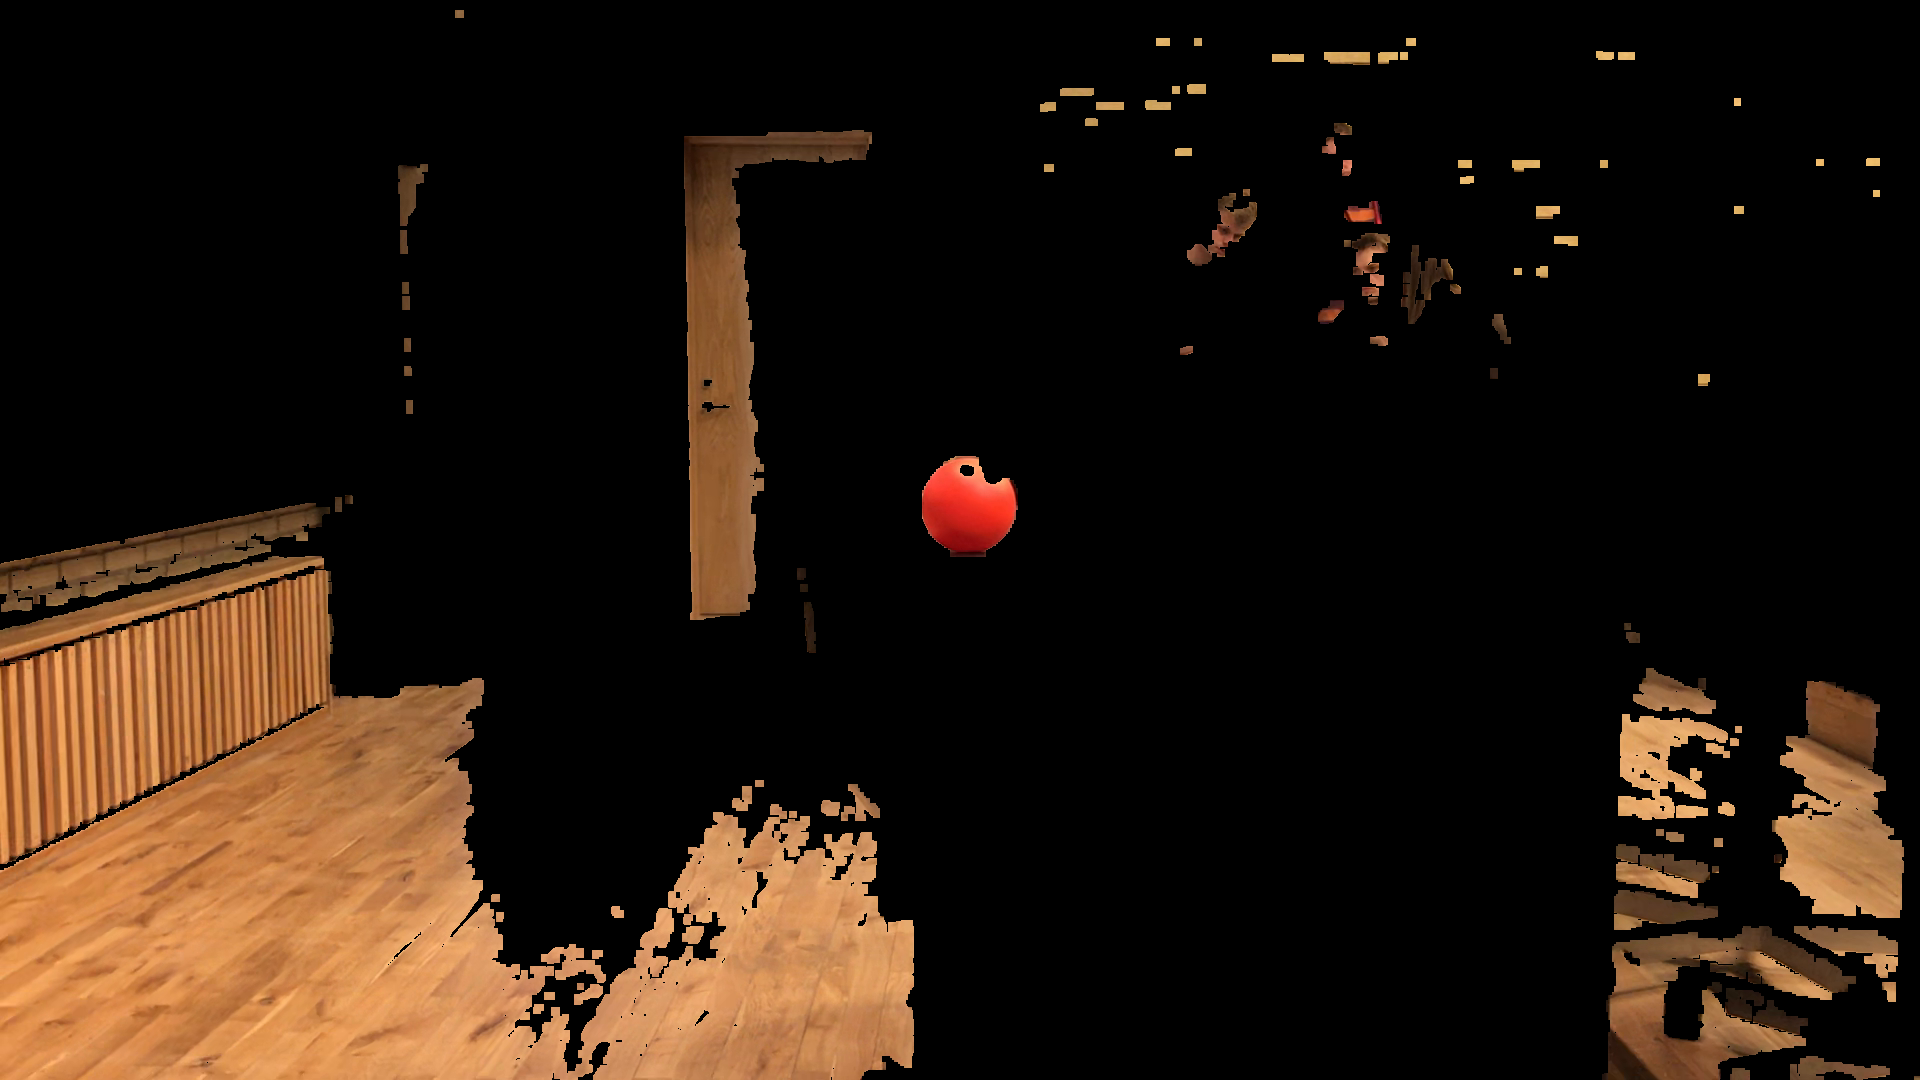Ball: (923, 454, 1030, 568)
